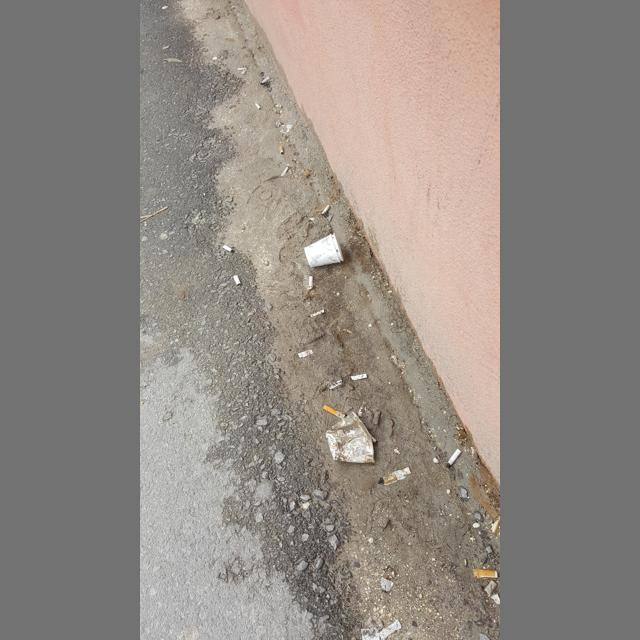litter: (325, 411, 375, 463), (304, 234, 341, 267), (377, 467, 411, 485), (379, 619, 401, 640), (323, 405, 348, 419), (332, 233, 344, 262), (472, 568, 498, 581), (447, 449, 461, 468), (361, 627, 380, 639), (380, 577, 393, 592), (309, 309, 325, 318), (358, 401, 367, 417), (320, 205, 331, 216), (298, 350, 313, 358), (329, 380, 342, 389), (351, 374, 367, 380), (280, 166, 289, 176), (233, 275, 241, 286), (260, 77, 270, 85), (223, 245, 233, 253), (309, 276, 313, 289), (255, 103, 261, 110), (280, 145, 284, 155), (238, 68, 247, 70)
